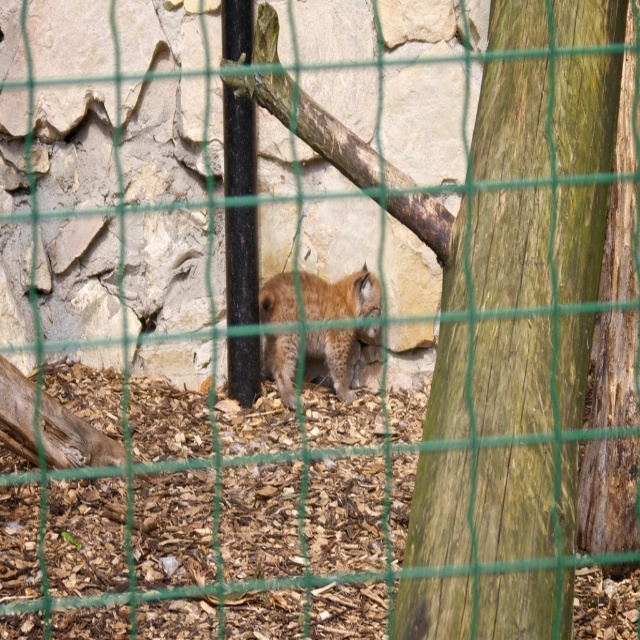Lynx: (259, 239, 398, 413)
